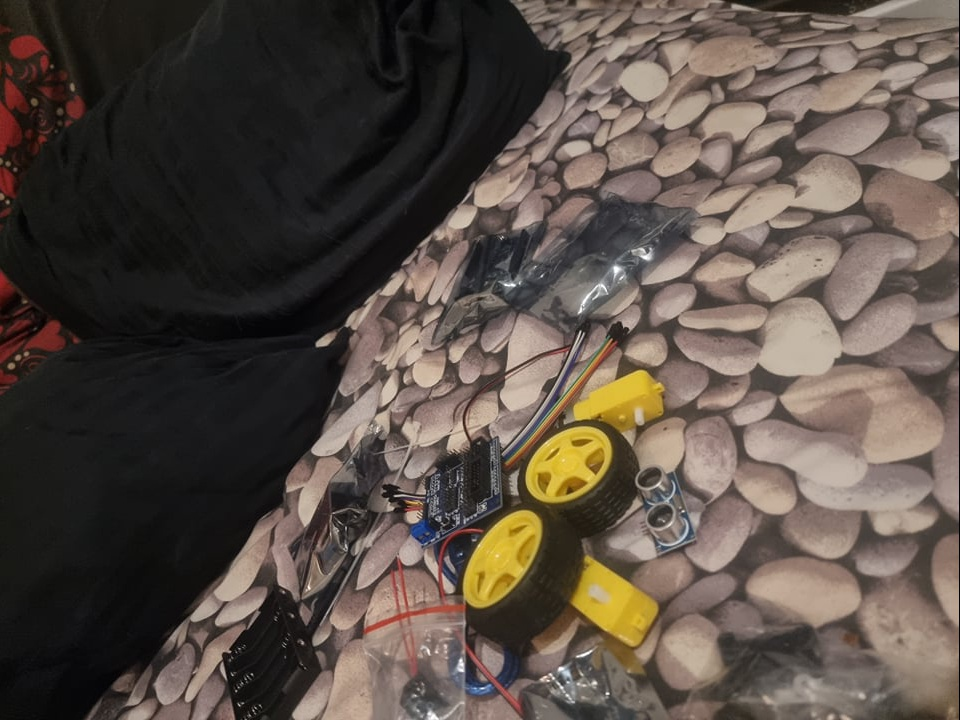5V EXPANSION: (412, 435, 505, 548)
BATTERY BOX: (213, 586, 323, 720)
SENSOR: (636, 464, 692, 556)
